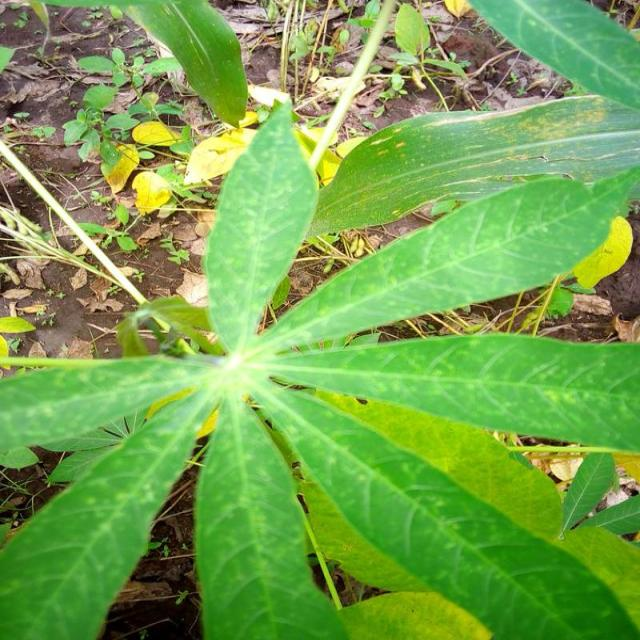cassava leaf: (2, 94, 639, 638), (202, 97, 321, 355)
